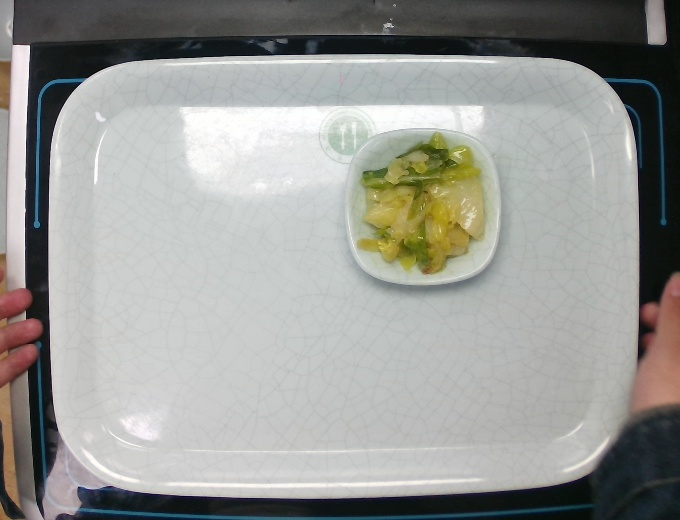JYsf-Si_Fang_Die: (336, 121, 503, 291)
